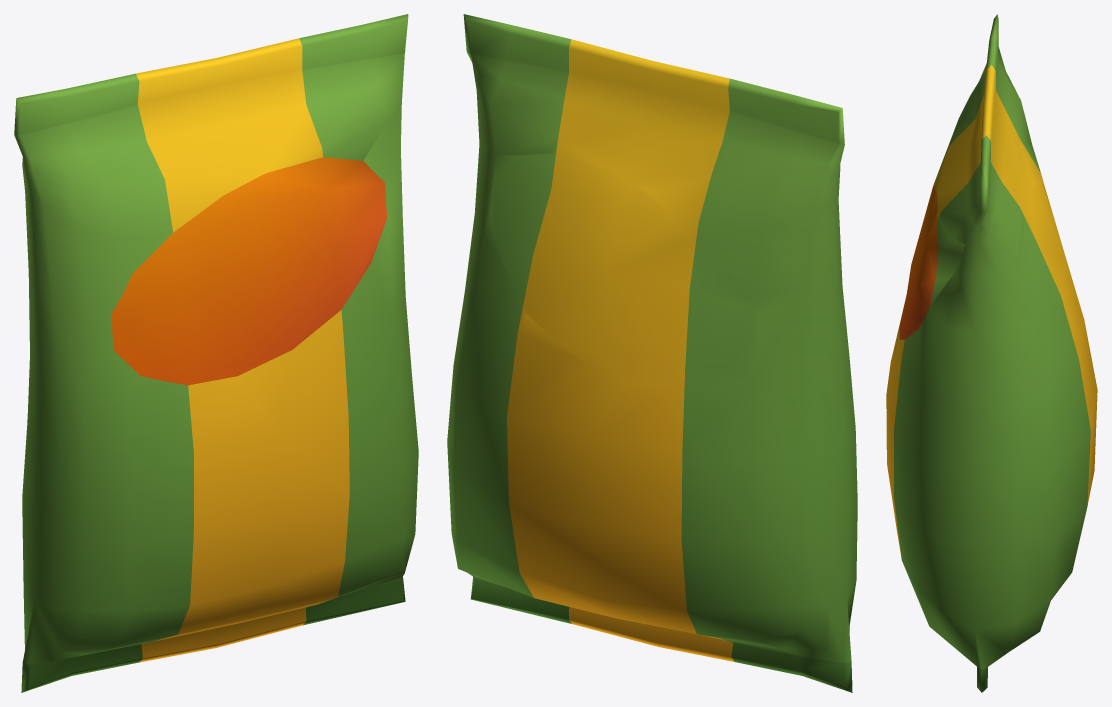
File: chips_008.glb
The picture shows the model from 3 angles, left to right: view 1: azimuth 30°, elevation 25°; view 2: azimuth 150°, elevation 25°; view 3: azimuth 270°, elevation 25°; orthographic projection. The views are drawn at different scales.
Visible parts, largest first — view 1: chips_008; view 2: chips_008; view 3: chips_008.
Boxes of the visible parts, bbox=[...] form: chips_008: bbox=[14, 14, 418, 692]; chips_008: bbox=[447, 14, 857, 692]; chips_008: bbox=[886, 14, 1097, 692].
Bounding box in the file's own units: 0.1592 × 0.2316 × 0.0857.
Materials: 1 (1 with a texture image).
